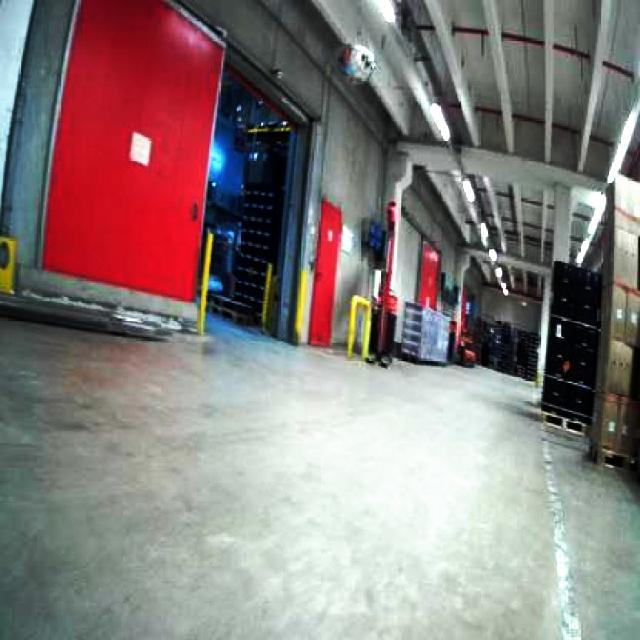ground: (0, 292, 638, 638)
pallet: (540, 171, 638, 555), (588, 202, 638, 488), (538, 258, 602, 440), (218, 182, 283, 326), (395, 298, 452, 365), (485, 322, 538, 380), (397, 300, 422, 362), (514, 329, 538, 380)
